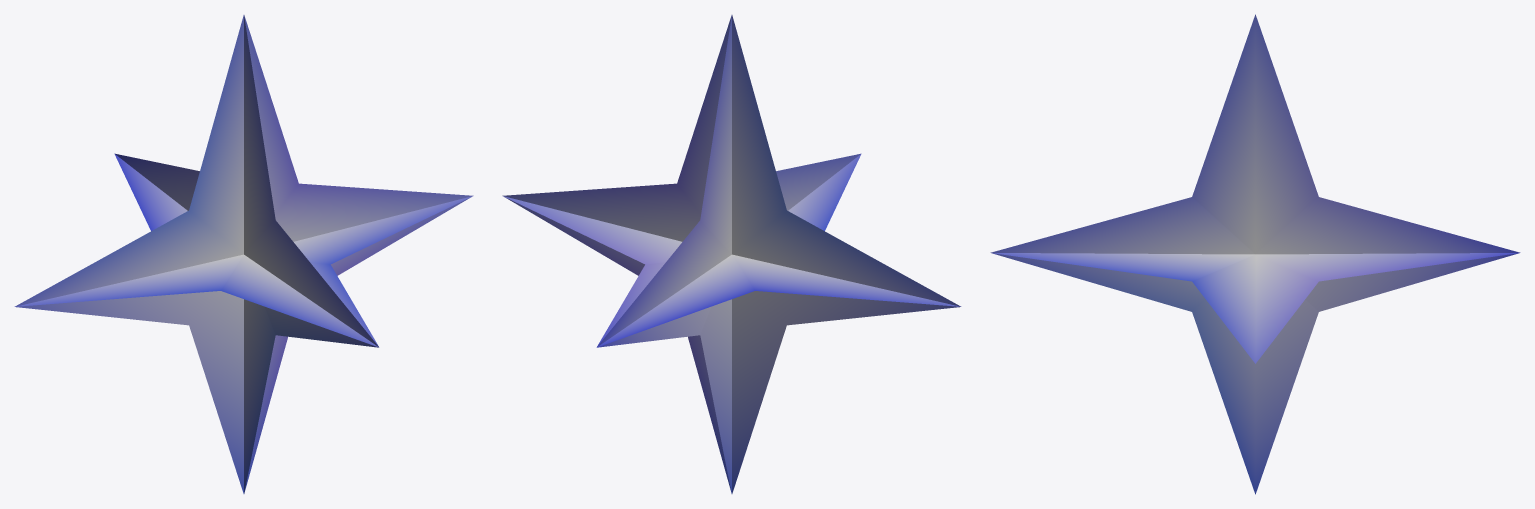
The model's file is space-stars-star_v5.glb.
3 views of the same model, side by side, from view 1: azimuth 30°, elevation 25°; view 2: azimuth 150°, elevation 25°; view 3: azimuth 270°, elevation 25° (orthographic).
Visible parts, largest first — view 1: Star_v5; view 2: Star_v5; view 3: Star_v5.
Part boxes in pixels (x1,y1,x2,y2): Star_v5: (14, 15, 473, 493); Star_v5: (502, 15, 961, 493); Star_v5: (990, 14, 1520, 494).
Bounding box in the file's own units: 0.5 × 0.5 × 0.5.
